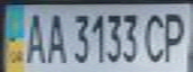1: (87, 10, 106, 63)
3: (69, 9, 90, 64), (121, 9, 142, 63), (106, 9, 124, 63)
A: (18, 9, 48, 64), (42, 9, 69, 64)
C: (142, 8, 172, 64)
P: (157, 7, 190, 64)
